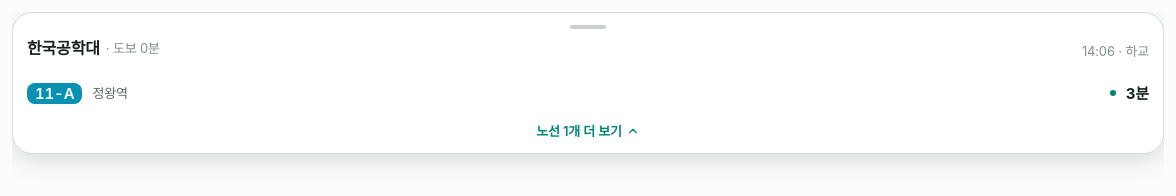
Test: NearestStopCard — 접힘/펼침 › "더 보기"를 탭하면 나머지 행이 펼쳐지고 손잡이가 접기로 바뀐다
Click the button "노선 1개 더 보기" at (588, 131), box [19,115,1157,147]
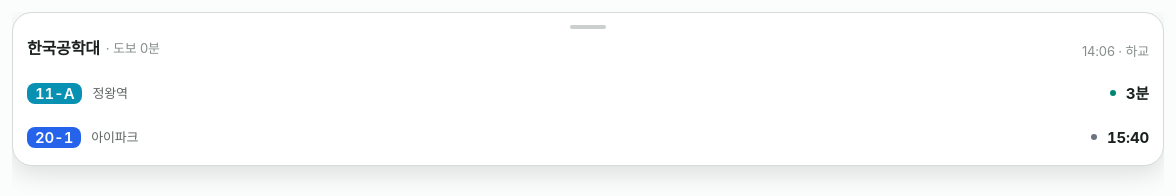
expect the button named "가까운 정류장 카드 접기" is shown: met, box [13,13,1163,35]
expect the text "20-1" is shown: met, box [27,126,81,148]
